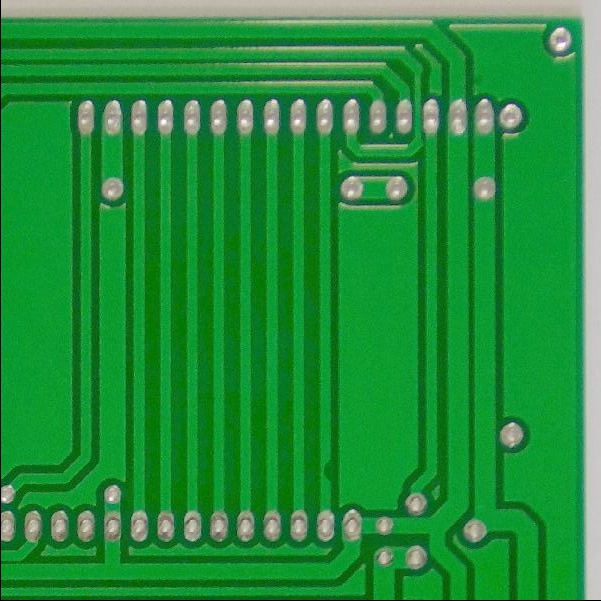mouse_bite: (316, 456, 336, 488)
